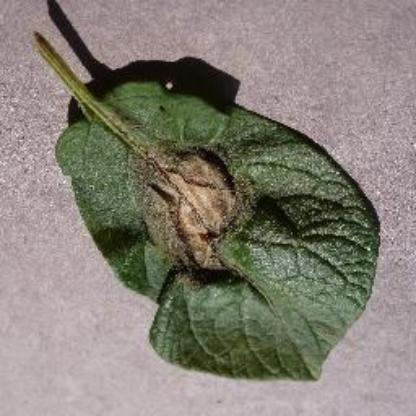Late-Blight: (42, 56, 398, 386)
